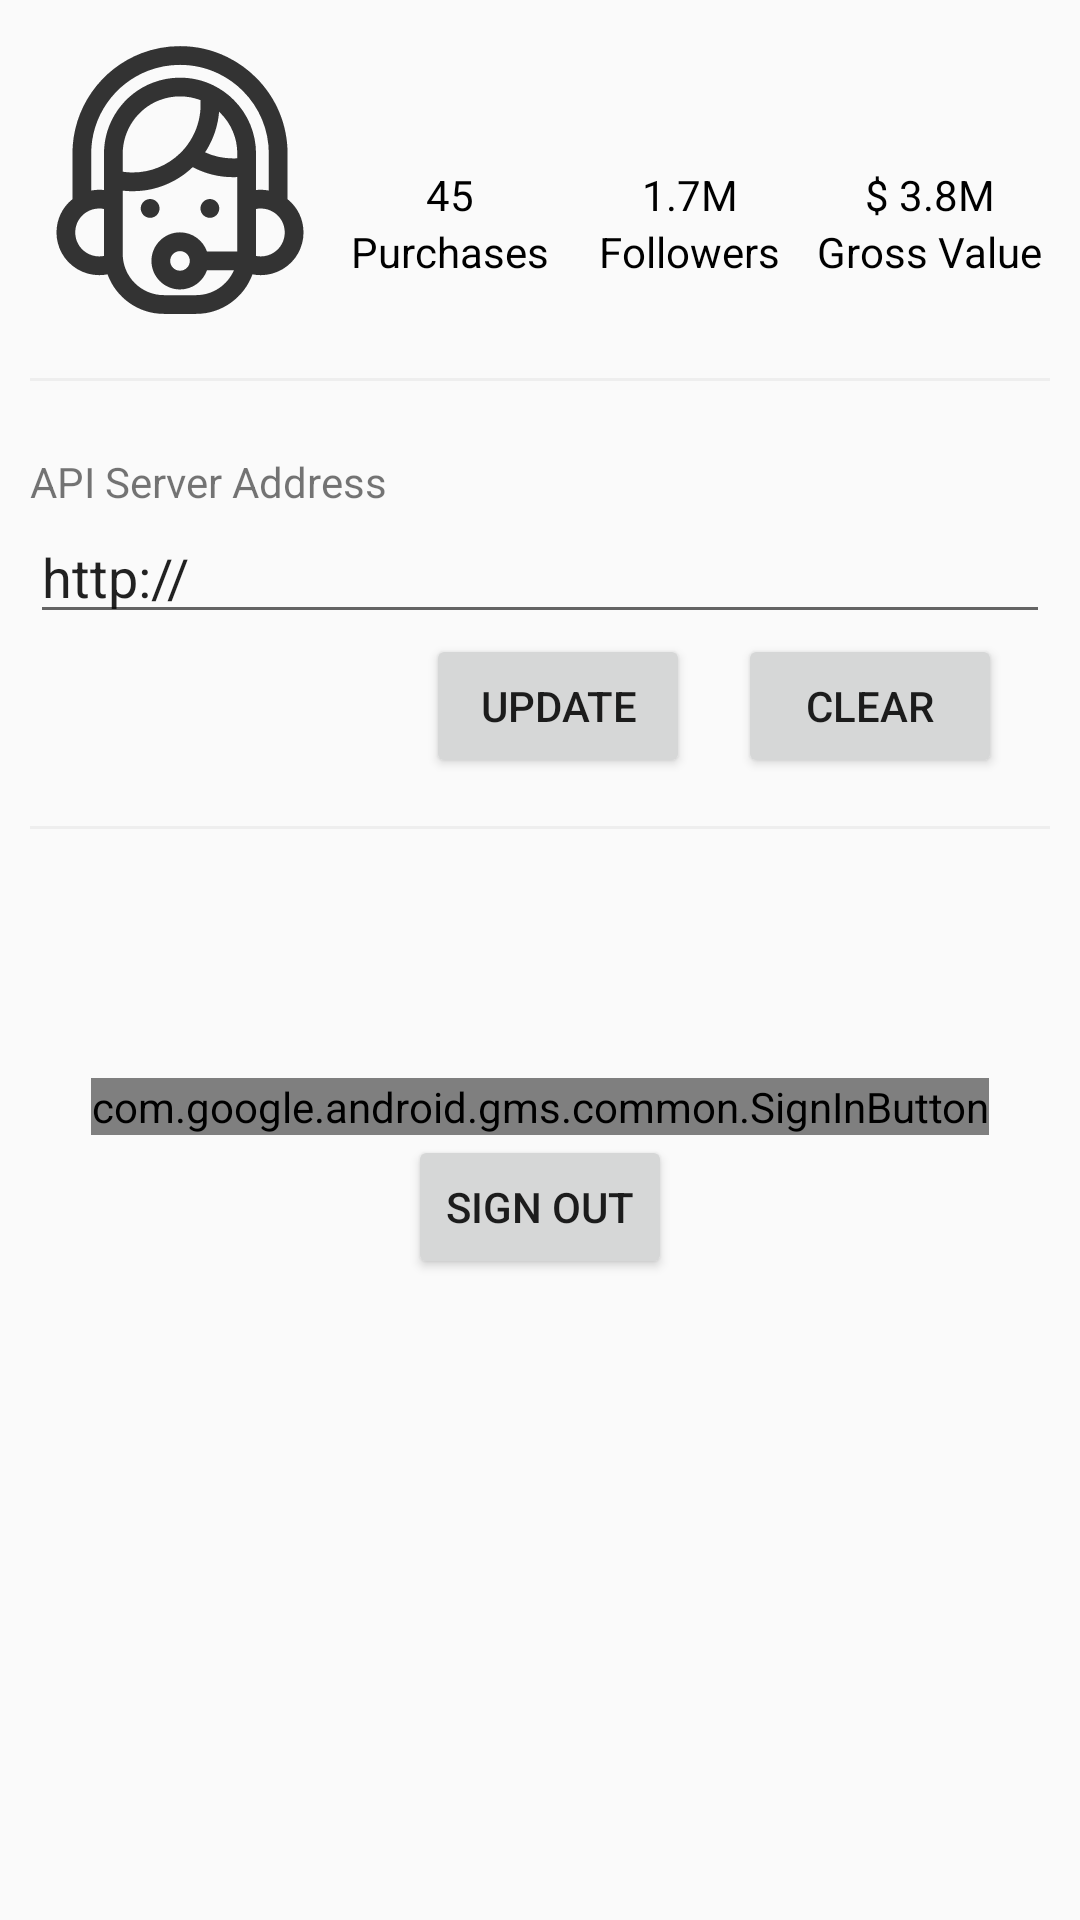

Where to tap for icons on this 1080w x 1920h app screen, as point (x, y):
user: point (180, 180)
